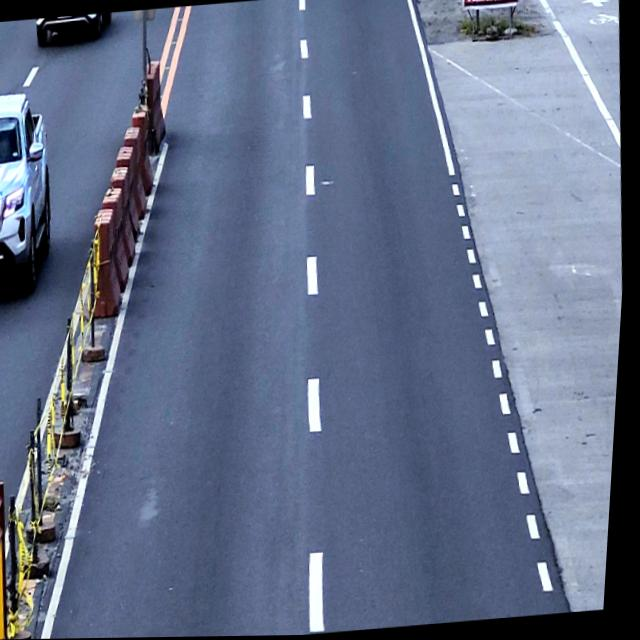Car: (0, 87, 64, 293), (33, 13, 112, 47)
